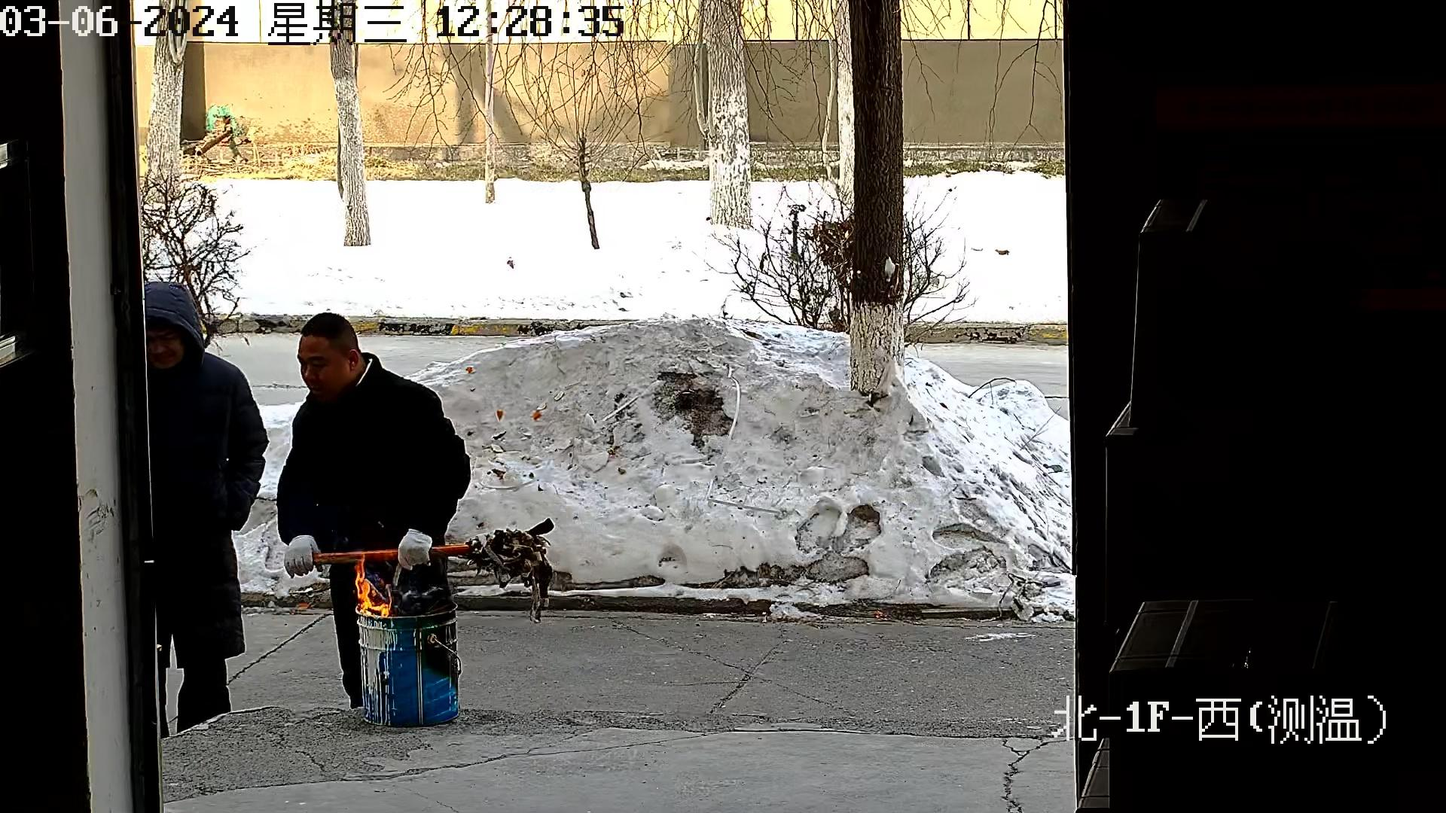fire: (355, 559, 392, 617)
